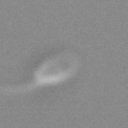normal: (1, 79, 38, 99)
